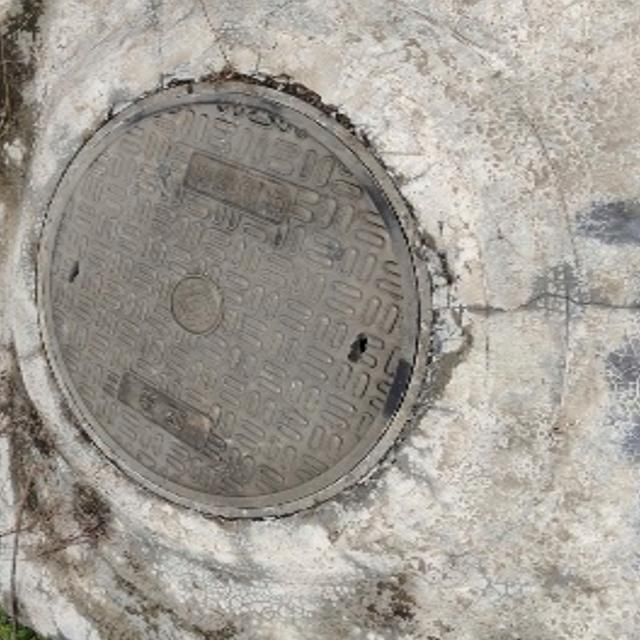good: (38, 85, 427, 519)
